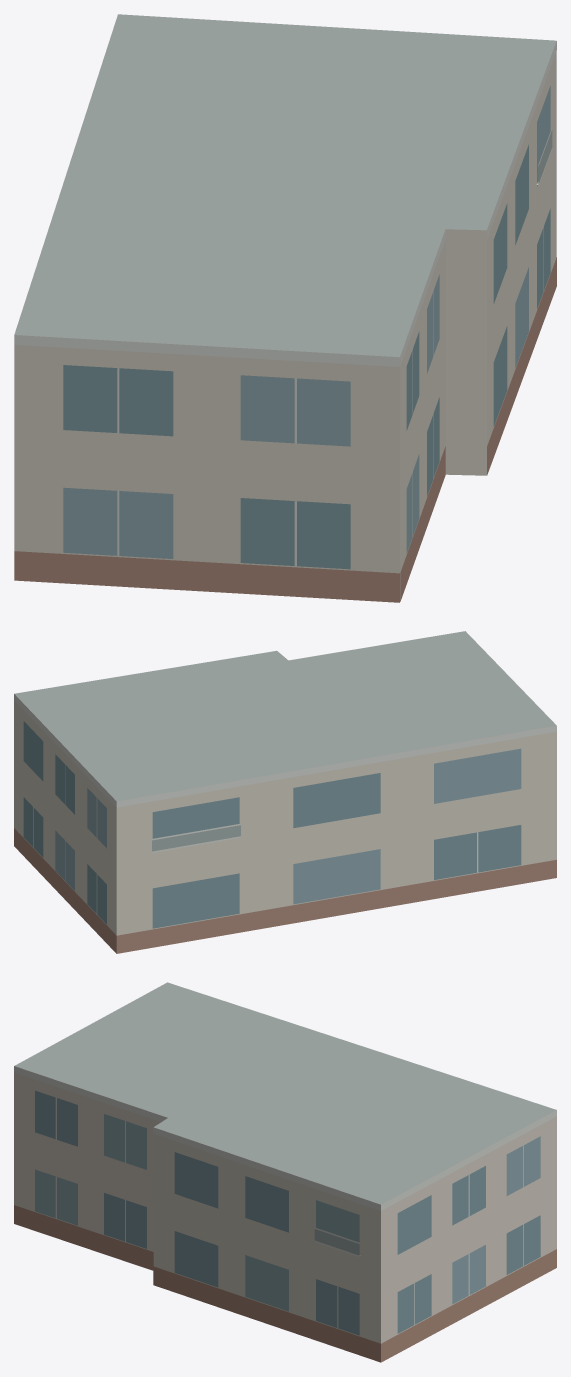
The model's file is survey-upis-32888639.glb.
The picture shows the model from 3 angles, top to bottom: view 1: azimuth 30°, elevation 25°; view 2: azimuth 150°, elevation 25°; view 3: azimuth 270°, elevation 25°; orthographic projection. The views are drawn at different scales.
Parts seen in each view (by area): view 1: survey-upis-32888639.tmp; view 2: survey-upis-32888639.tmp; view 3: survey-upis-32888639.tmp.
Boxes of the visible parts, left/top/right/bottom form: survey-upis-32888639.tmp: left=14, top=14, right=556, bottom=602; survey-upis-32888639.tmp: left=14, top=631, right=556, bottom=953; survey-upis-32888639.tmp: left=14, top=982, right=556, bottom=1362.
Bounding box in the file's own units: 18.43 × 6.1 × 19.01.
